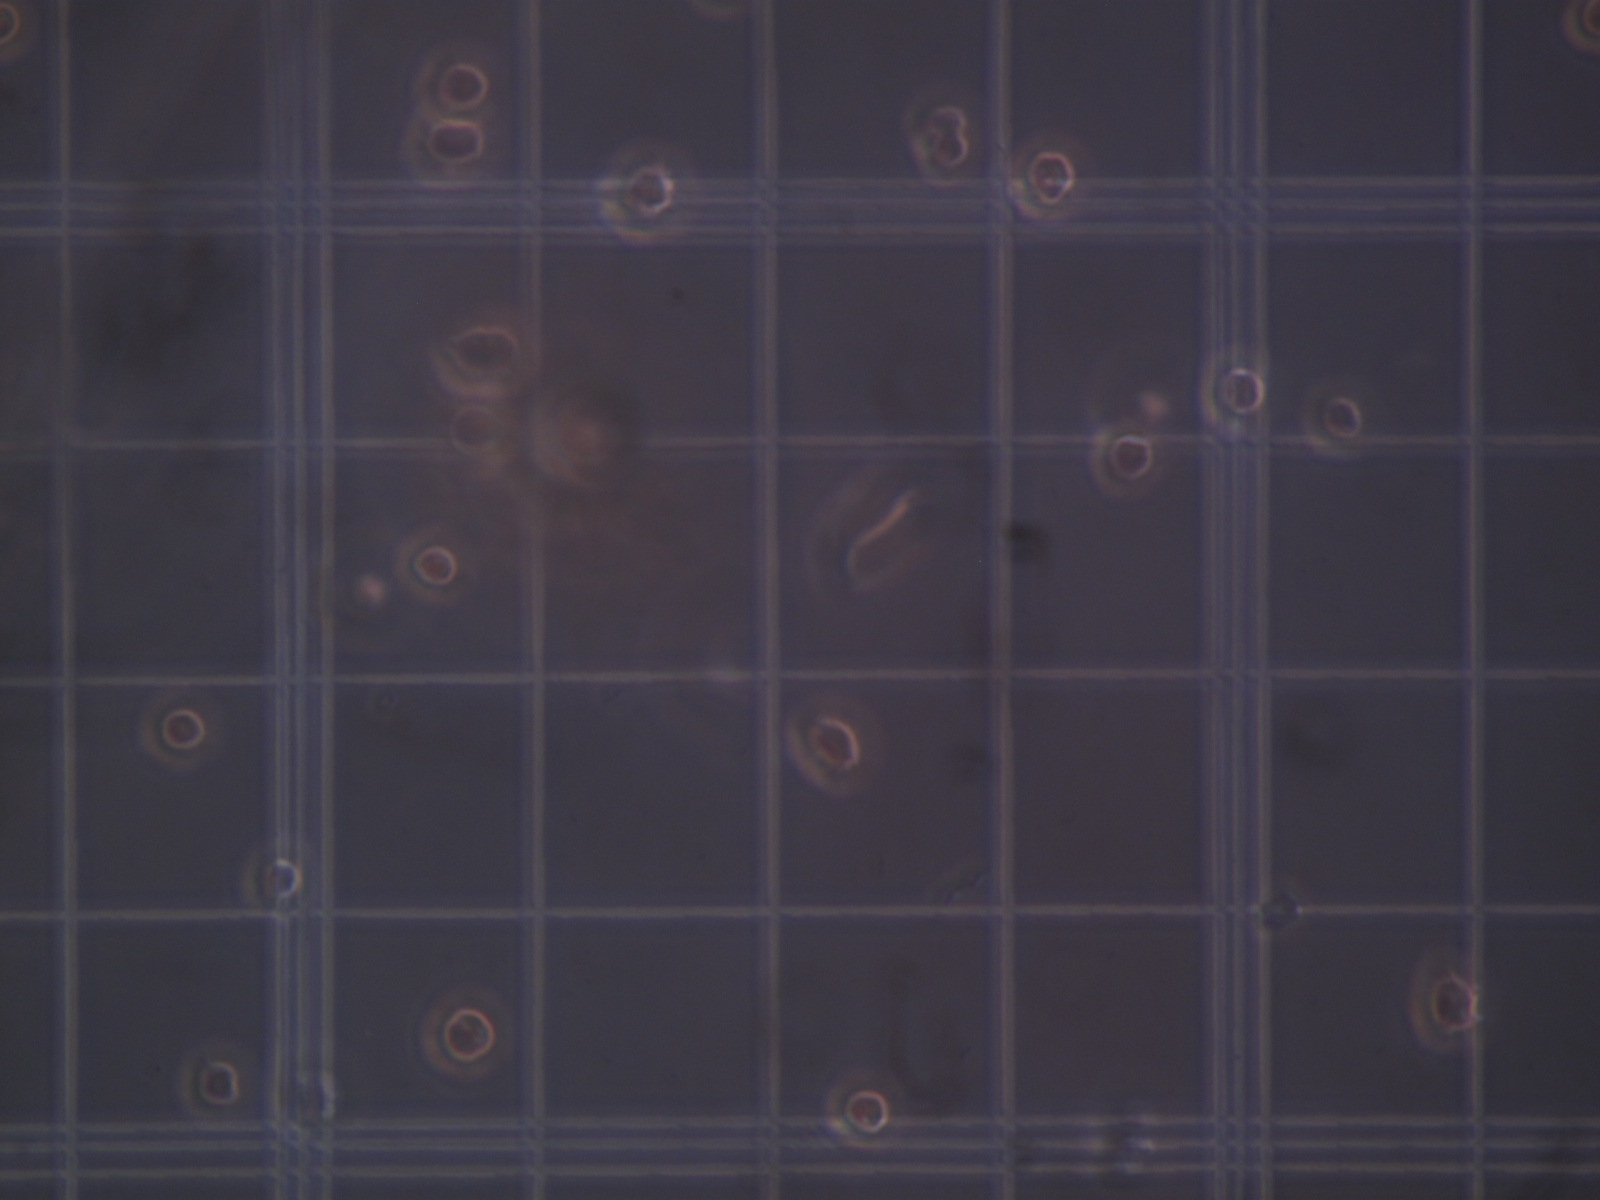hemo: (595, 142, 698, 245), (428, 305, 533, 400), (786, 693, 877, 794), (420, 984, 511, 1079), (1407, 947, 1482, 1051), (402, 115, 503, 192), (1007, 131, 1089, 221), (411, 44, 499, 121), (1197, 345, 1271, 435), (176, 1041, 256, 1124), (825, 1070, 905, 1152), (139, 691, 220, 770), (396, 524, 472, 606), (440, 397, 518, 474), (1089, 424, 1163, 499), (1299, 381, 1369, 459), (241, 842, 307, 920), (902, 84, 974, 139), (1249, 881, 1306, 942), (913, 132, 976, 187), (1562, 1, 1600, 53), (1, 3, 28, 66)
